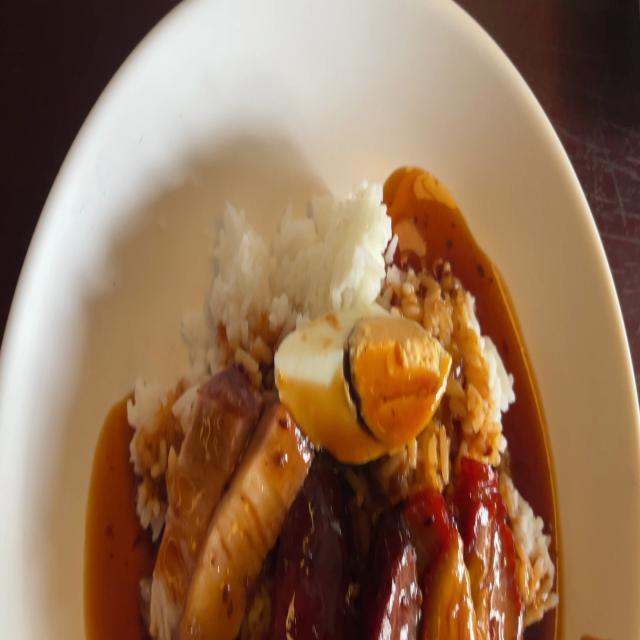01boiled_egg: (277, 312, 445, 444)
01chainese_sausage: (304, 448, 416, 640)
01crispy_pork: (158, 383, 308, 640)
01red_pork: (417, 463, 517, 640)
01red_pork_and_crispy_pork: (136, 193, 548, 640)
01rice: (210, 181, 390, 334)
